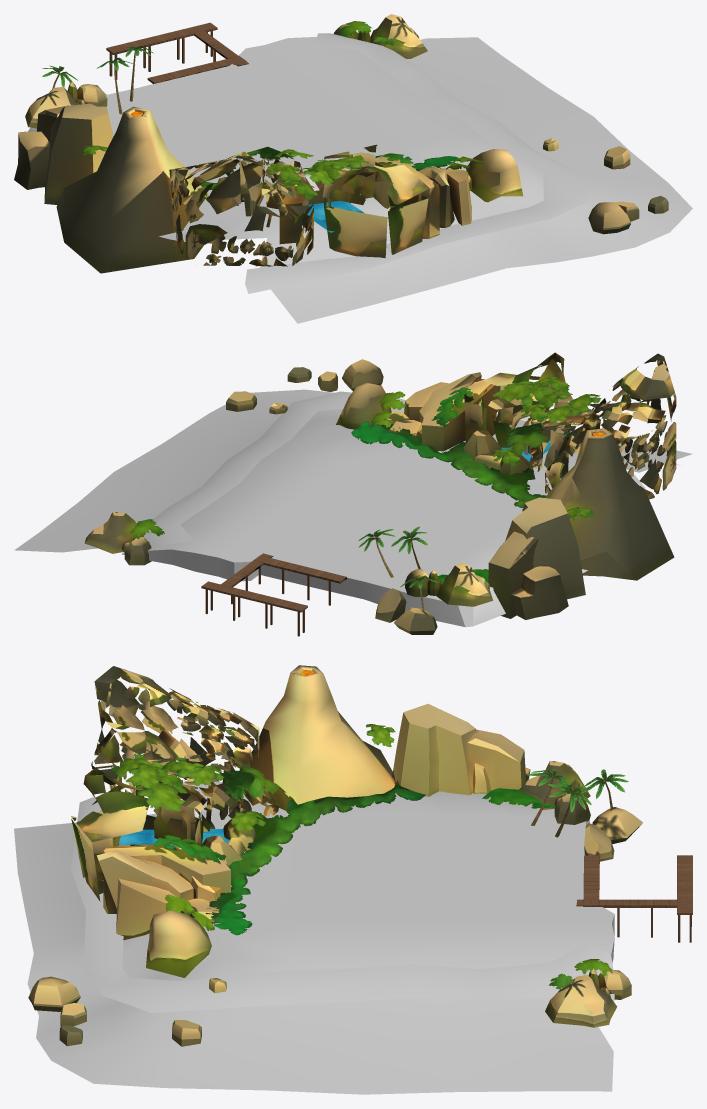
Rendered from island_main.FBX.
3 renders of one model, top to bottom at view 1: azimuth 30°, elevation 25°; view 2: azimuth 150°, elevation 25°; view 3: azimuth 270°, elevation 25°, orthographic. The views are drawn at different scales.
Visible parts, largest first — view 1: Rectangle007, Object011, Line05, 对象006, 对象007, Line027, Rectangle010, 对象001, 对象005, Object007, Object010; view 2: Rectangle007, Object011, 对象006, Line05, Line027, 对象007, Rectangle010, 对象005, 对象001, 对象003, 对象01, Object007; view 3: Rectangle007, Object011, Line05, 对象006, Line027, 对象007, 对象003, 对象001, Rectangle010, 对象005, 对象01, Object007 (+2 smaller).
Boxes of the visible parts, x1=… form: Rectangle007: x1=28, y1=37, x2=692, y2=323; Object011: x1=14, y1=93, x2=668, y2=273; Line05: x1=245, y1=33, x2=593, y2=293; 对象006: x1=169, y1=151, x2=313, y2=266; 对象007: x1=322, y1=144, x2=429, y2=258; Line027: x1=82, y1=145, x2=482, y2=199; Rectangle010: x1=106, y1=22, x2=248, y2=83; 对象001: x1=333, y1=14, x2=427, y2=58; 对象005: x1=25, y1=82, x2=107, y2=128; Object007: x1=42, y1=45, x2=153, y2=114; Object010: x1=307, y1=200, x2=364, y2=232; Rectangle007: x1=14, y1=389, x2=691, y2=627; Object011: x1=226, y1=359, x2=674, y2=634; 对象006: x1=527, y1=353, x2=676, y2=499; Line05: x1=143, y1=391, x2=679, y2=547; Line027: x1=371, y1=377, x2=601, y2=520; 对象007: x1=464, y1=352, x2=573, y2=447; Rectangle010: x1=201, y1=553, x2=346, y2=636; 对象005: x1=405, y1=562, x2=492, y2=606; 对象001: x1=84, y1=512, x2=151, y2=565; 对象003: x1=452, y1=453, x2=546, y2=510; 对象01: x1=351, y1=421, x2=467, y2=465; Object007: x1=358, y1=526, x2=438, y2=611; Rectangle007: x1=14, y1=778, x2=614, y2=1094; Object011: x1=28, y1=665, x2=642, y2=1046; Line05: x1=70, y1=797, x2=612, y2=1013; 对象006: x1=91, y1=666, x2=279, y2=831; Line027: x1=111, y1=724, x2=395, y2=930; 对象007: x1=71, y1=769, x2=203, y2=901; 对象003: x1=233, y1=782, x2=425, y2=874; 对象001: x1=545, y1=968, x2=631, y2=1027; Rectangle010: x1=576, y1=855, x2=692, y2=942; 对象005: x1=519, y1=760, x2=590, y2=824; 对象01: x1=205, y1=862, x2=253, y2=935; Object007: x1=527, y1=769, x2=628, y2=837.
Size of the model in its own units: 9199 by 2490 by 8874.
